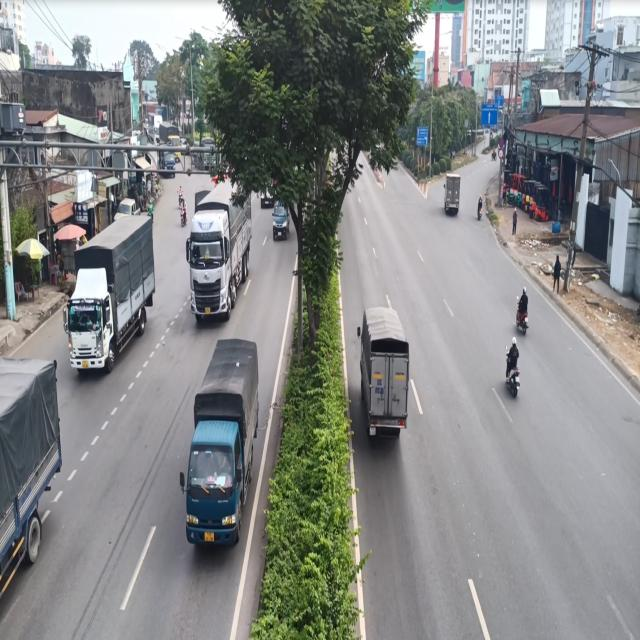motor: (498, 338, 525, 403), (513, 280, 532, 340)
truck: (181, 329, 255, 564), (63, 211, 159, 385), (184, 170, 259, 312), (354, 300, 414, 462)
